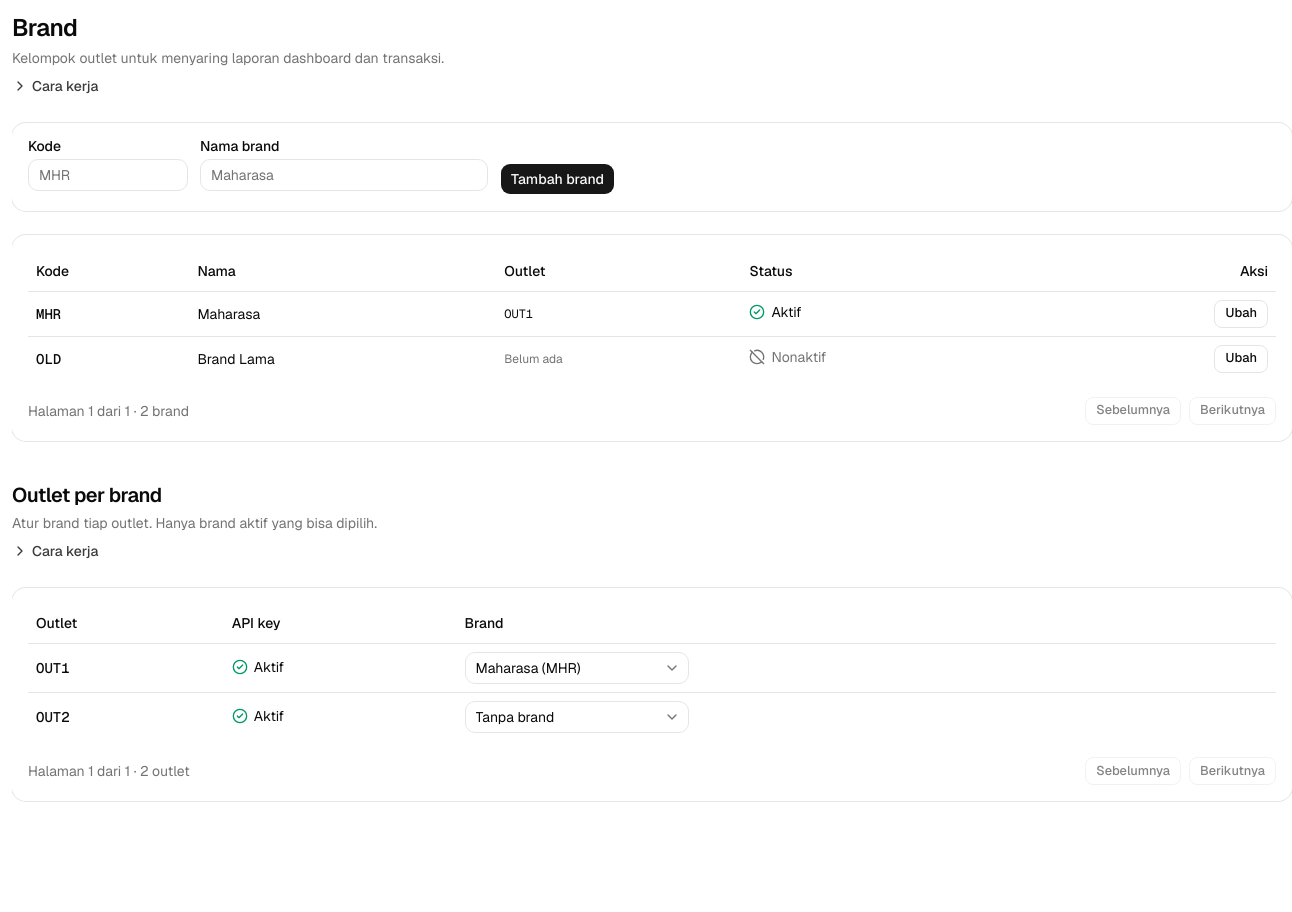
BrandsView — tambah brand › 409 ditempel di field kode
This screenshot has width=1292, height=912.
Type "mhr" into the field labelled "Kode".
click(108, 175); type("mhr")  # box [28,159,188,191]
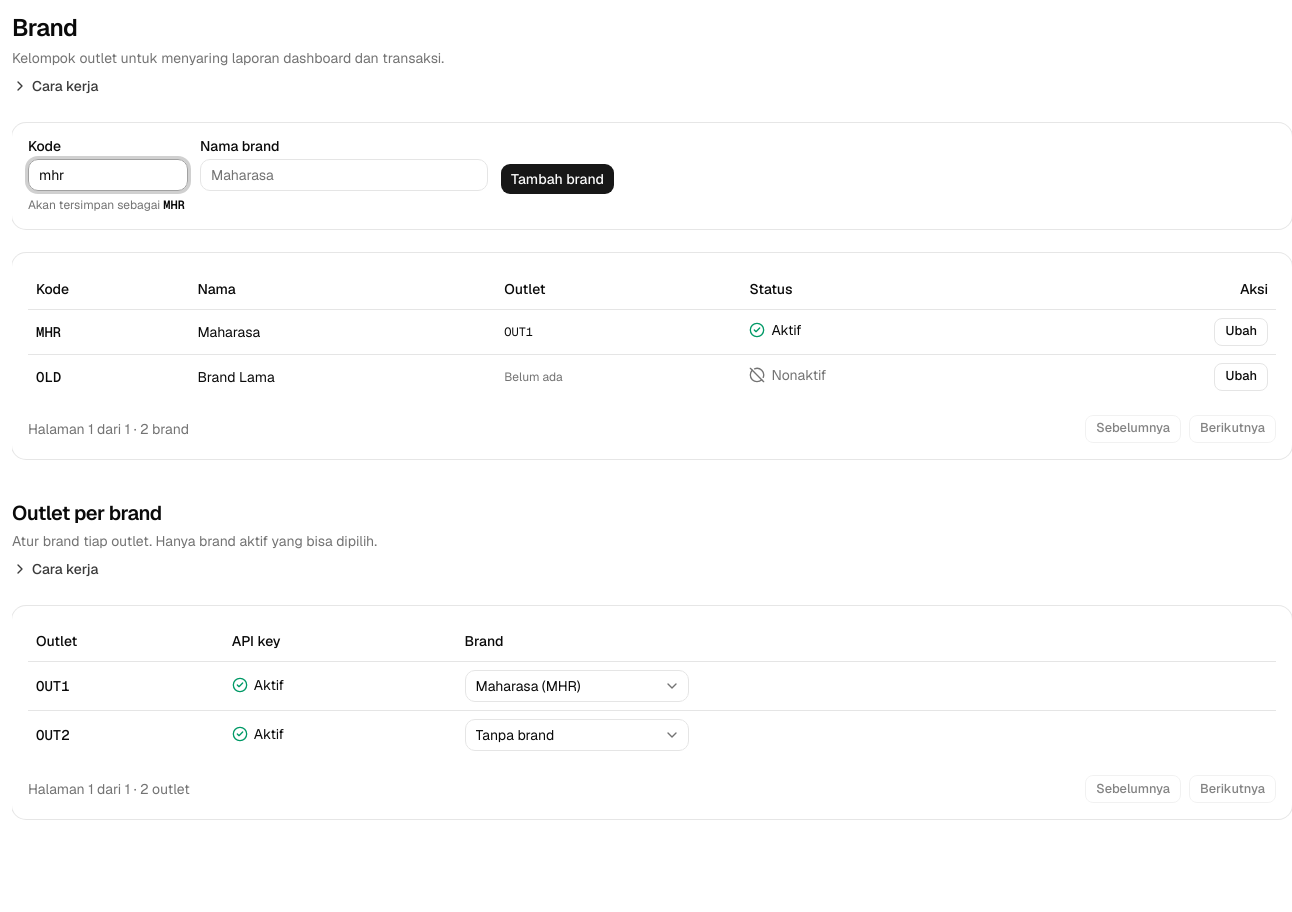
Type "Lagi" into the field labelled "Nama brand".
click(344, 175); type("Lagi")  # box [200,159,488,191]
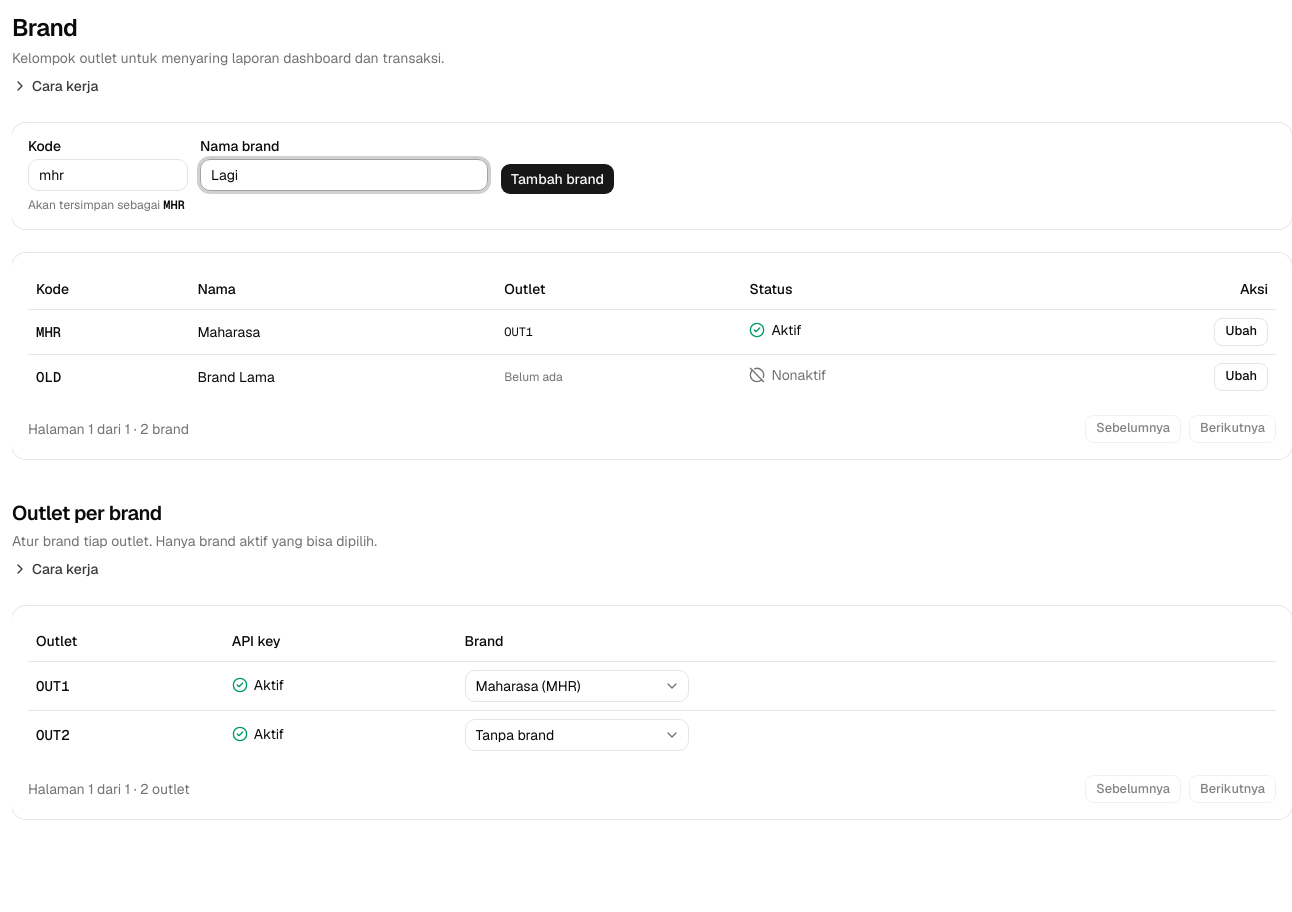
Click the button "Tambah brand".
click(558, 179)  # box [500,163,615,195]
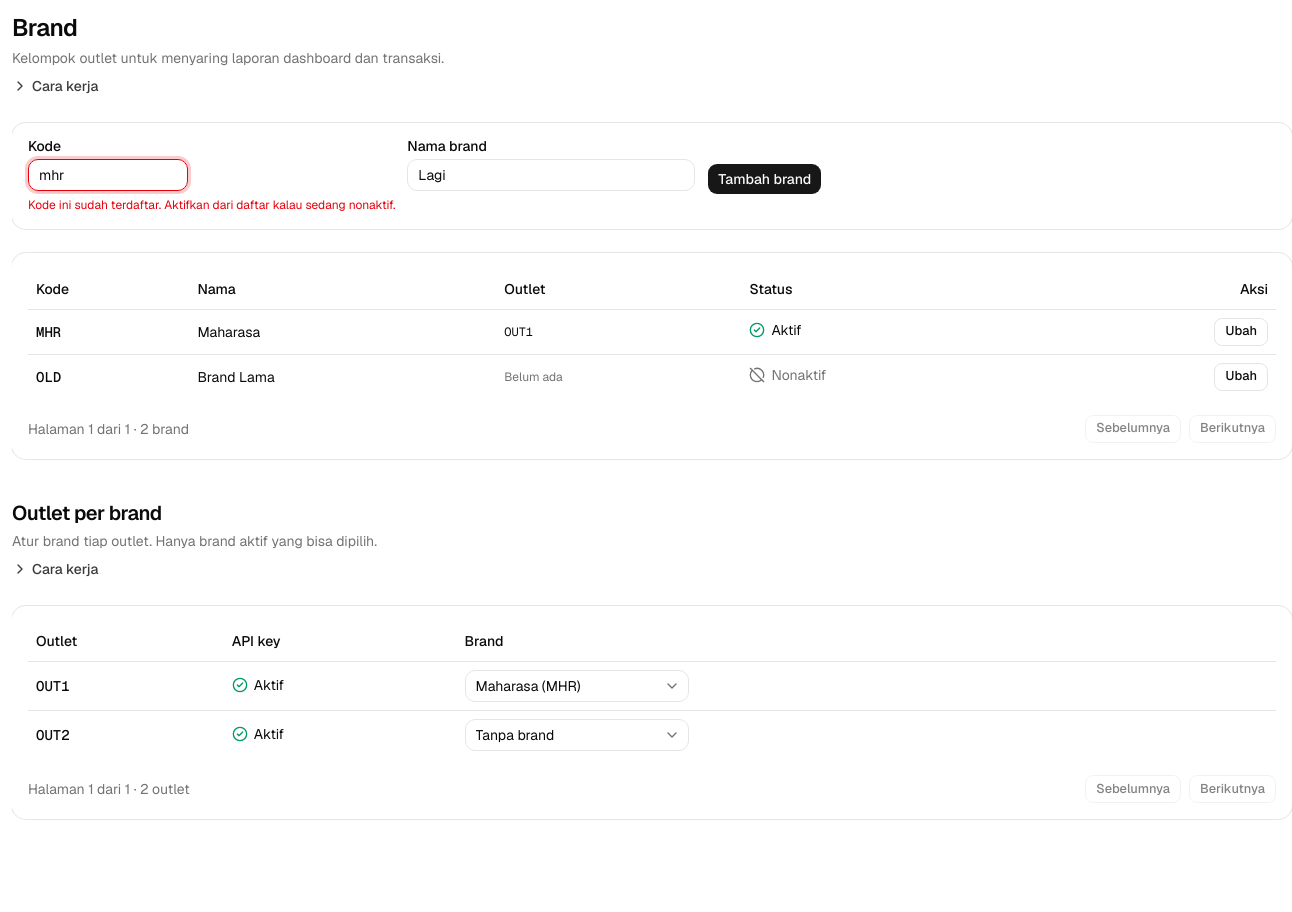
expect the text "Kode ini sudah terdaftar. Aktifkan dari daftar kalau sedang nonaktif." is shown: met, box [28,197,395,213]
